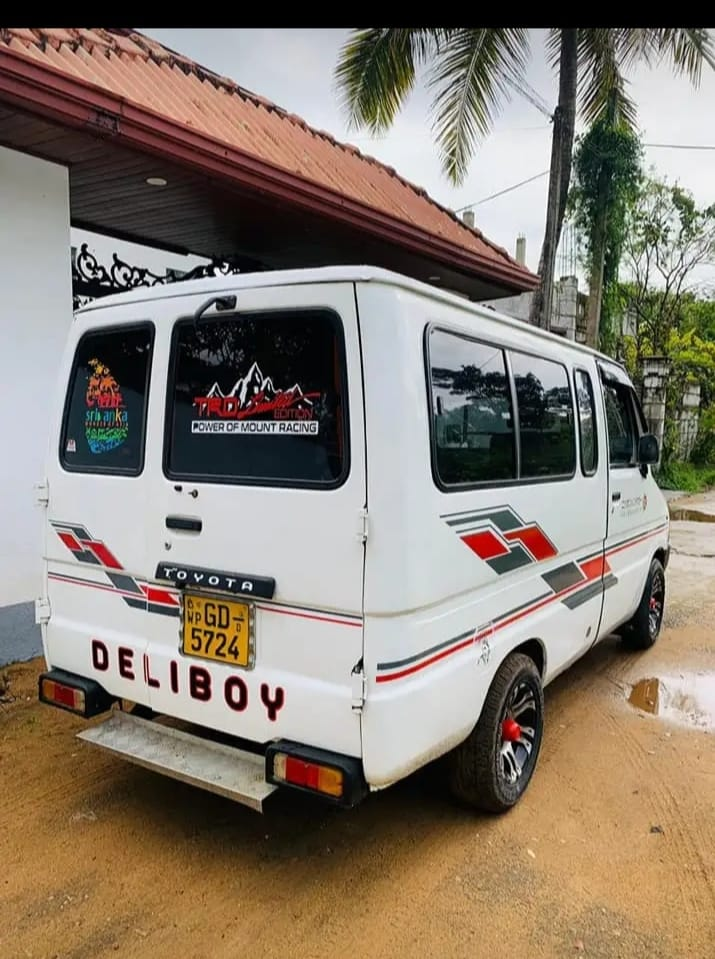number_plate: (182, 598, 256, 665)
